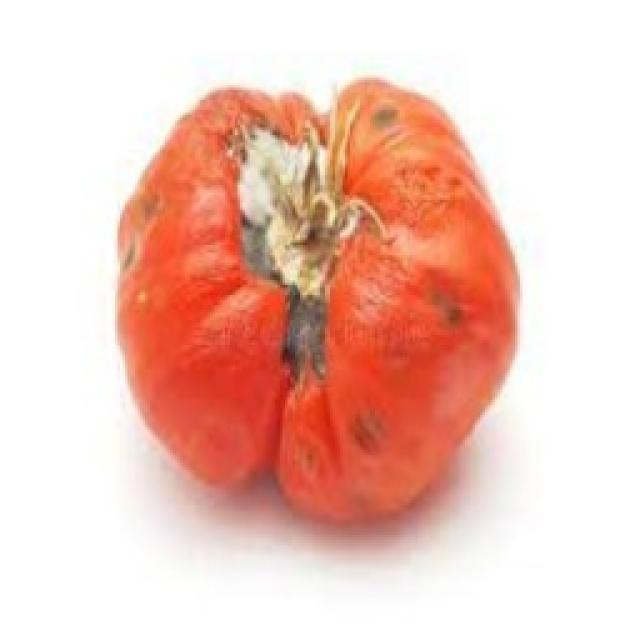overripe tomato: (107, 68, 536, 524)
